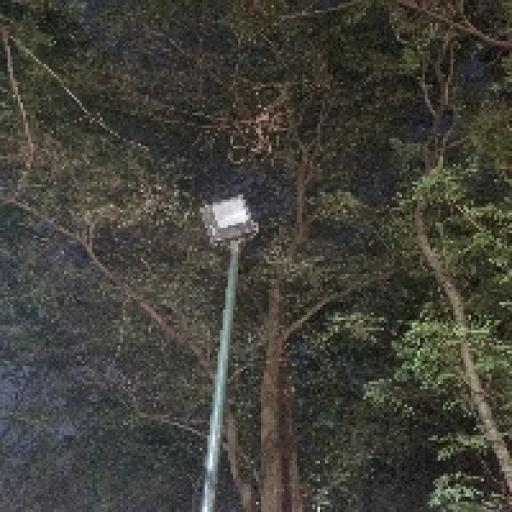Not Working: (188, 189, 274, 254)
